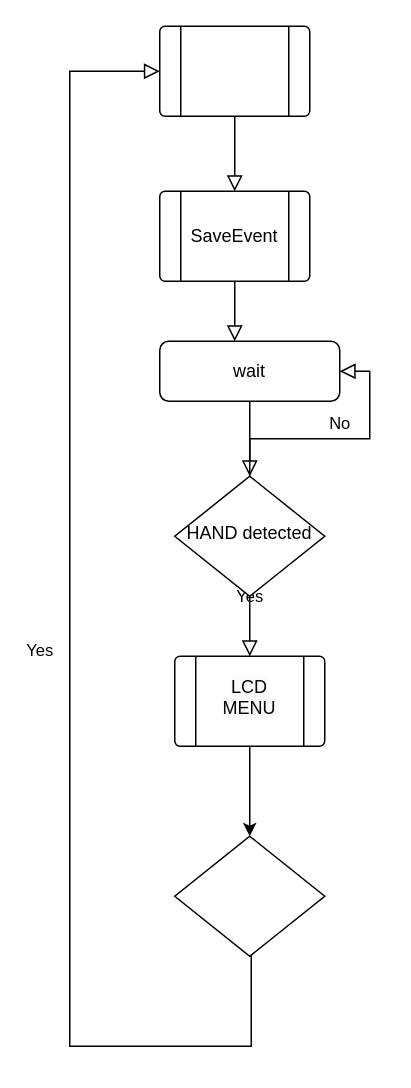
Image size: 411x1088. Some labels were removed from this diagram. The shapes that lost their labels are listed below. From the top down, each one's centre as x and y in pixels, then its label:
At (234,70): "readpol".
At (249,895): "Tempsécouler".
